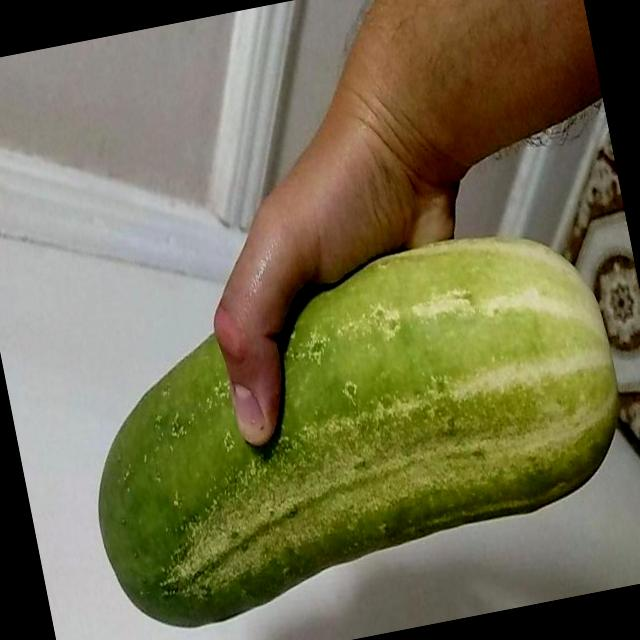Cucumber: (58, 213, 640, 640)
